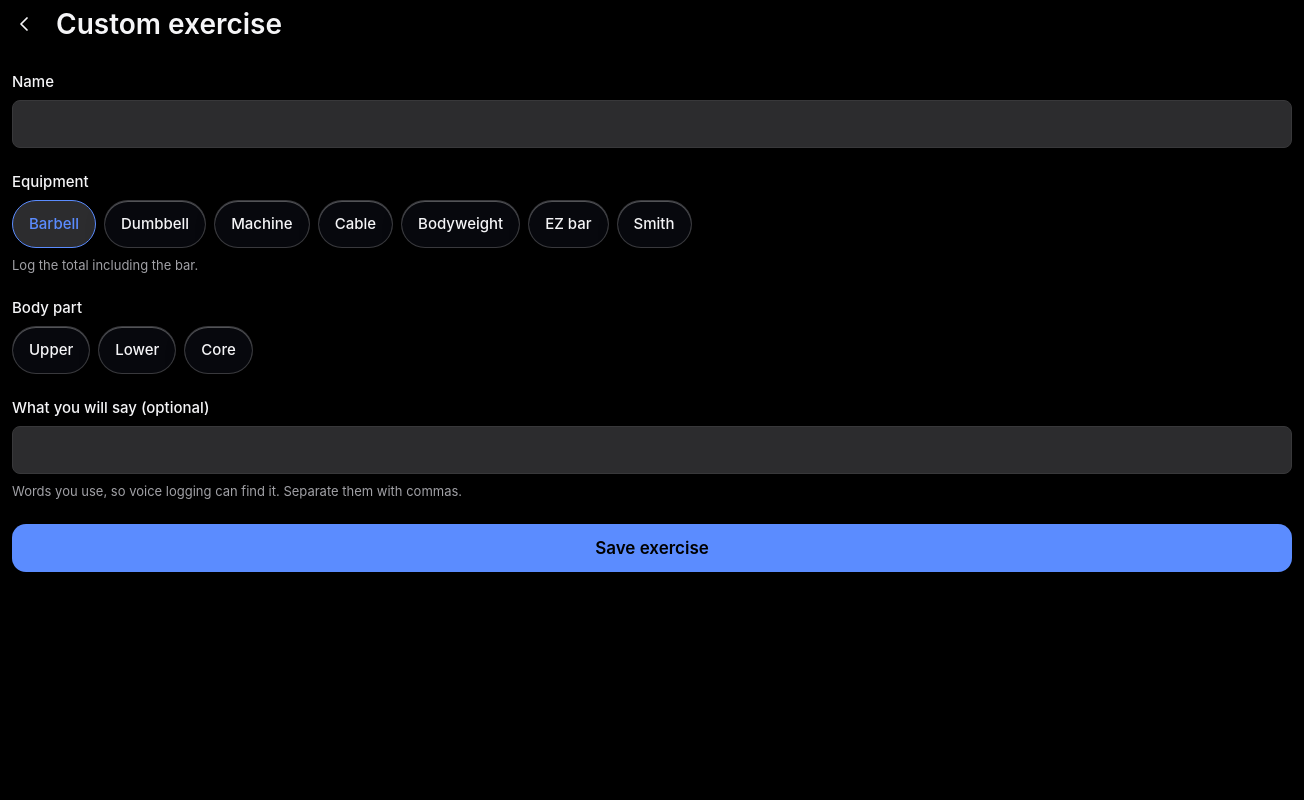
Test: CustomExercisePage › explains what to log for Dumbbell
Click the button "Dumbbell".
click(155, 224)  # box [104,200,206,248]
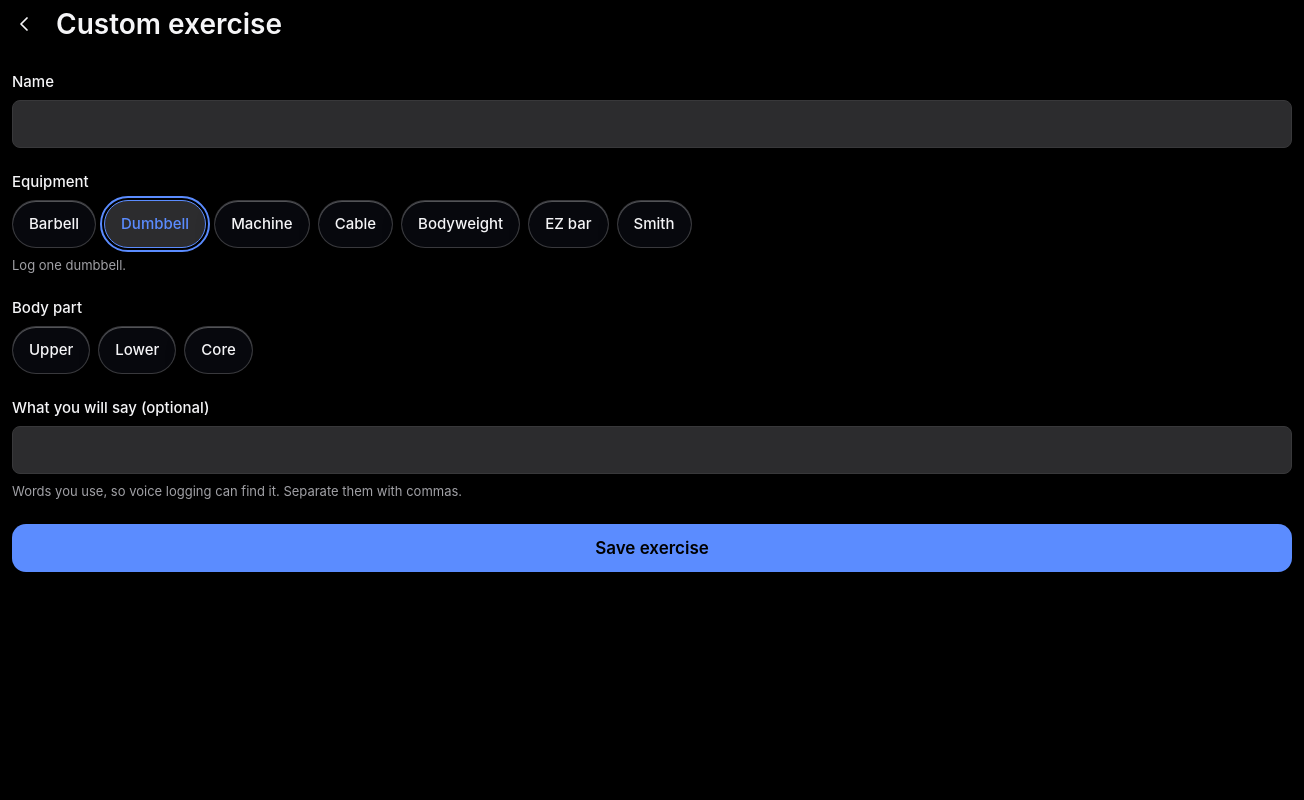
Expected: the text "Log one dumbbell." is shown, [12,257,126,273]
